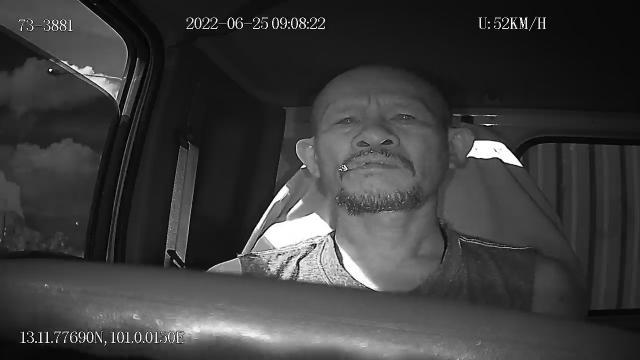SafeDriving: (384, 102, 424, 129), (328, 106, 364, 133)
Smoking: (338, 162, 368, 172)
